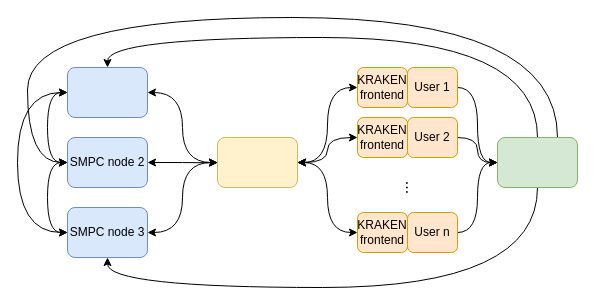
Some shapes in this 595 by 305 pixel diagram are drawn without their labels. Here are the shapes that lost their labels. From the top down, the centre of each, then its label:
At point 107,92: "SMPC node 1".
At point 257,162: "KRAKEN marketplace backend".
At point 537,162: "Remote storages".
